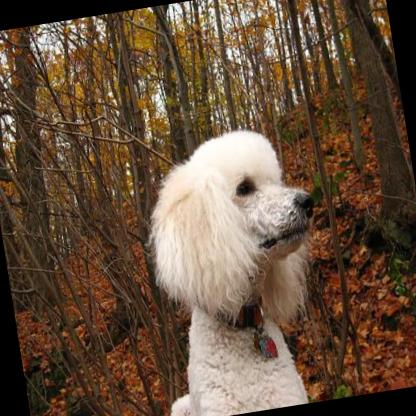standard_poodle: (120, 112, 342, 416)
